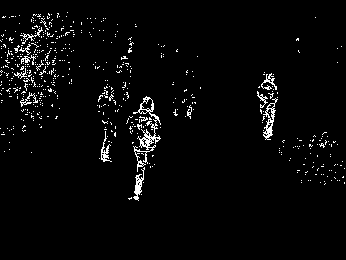person: (128, 96, 161, 203), (98, 85, 118, 163), (257, 72, 279, 141)
